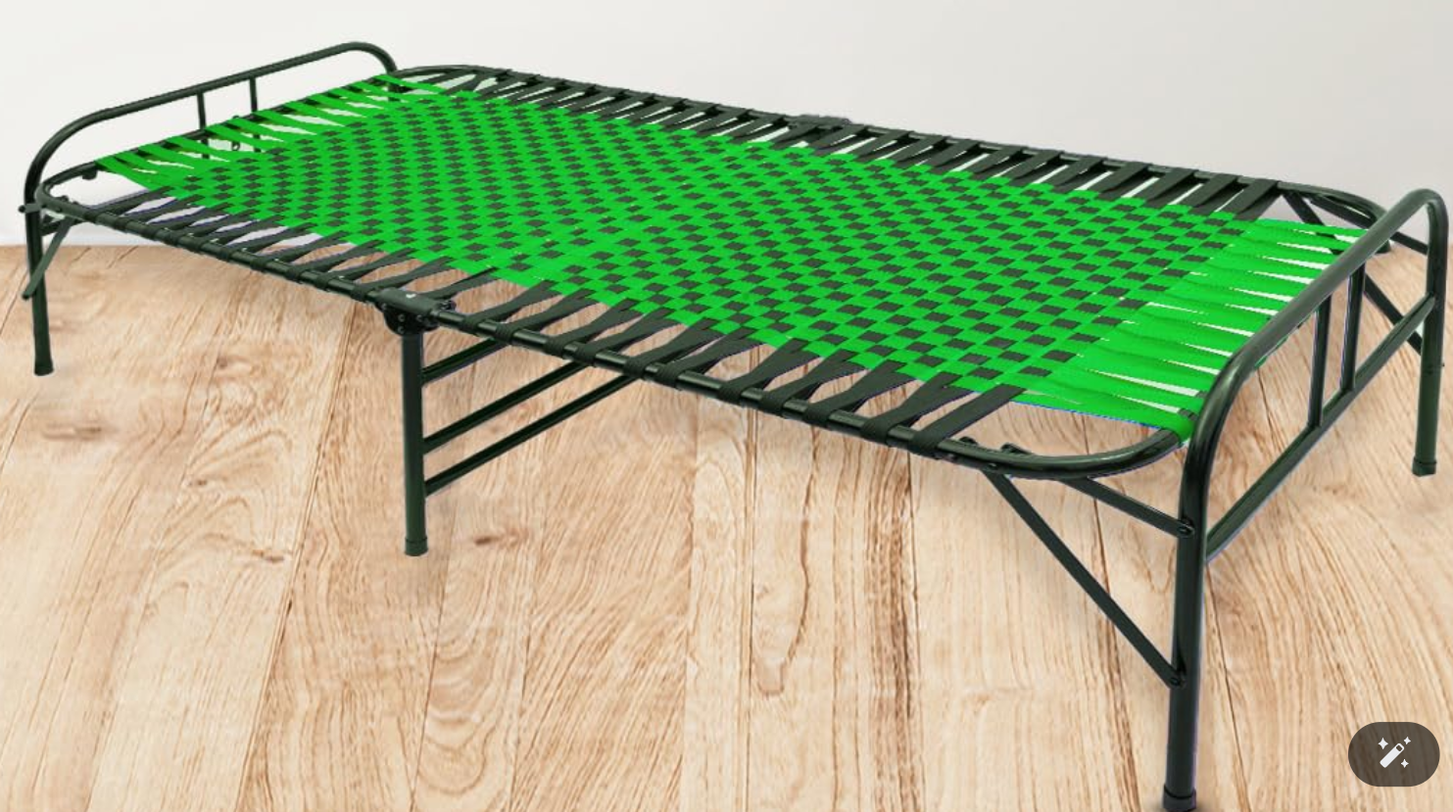cot: (24, 37, 1439, 804)
